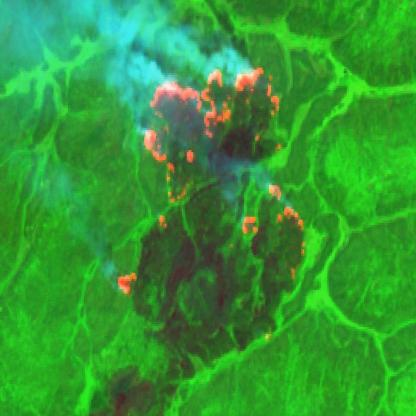fire: (111, 59, 308, 298)
